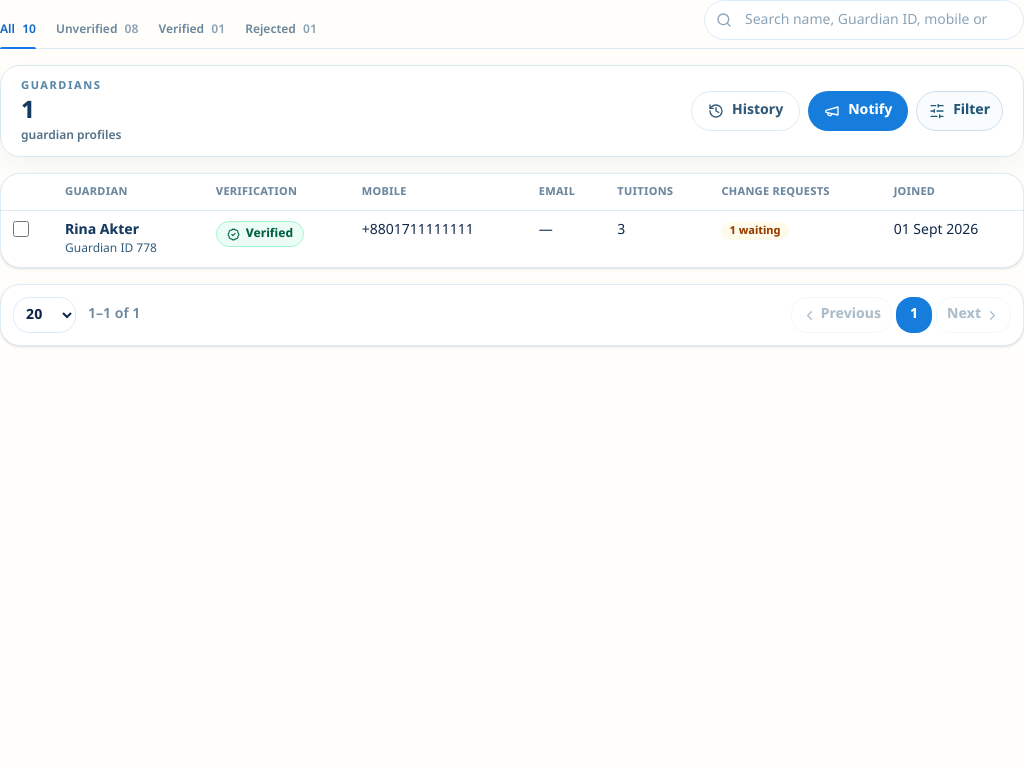
Scenario: Guardian directory Notify › opens a read-only history of past broadcasts
Click the button "History". click: [746, 111]
box: 691,91 -> 800,131
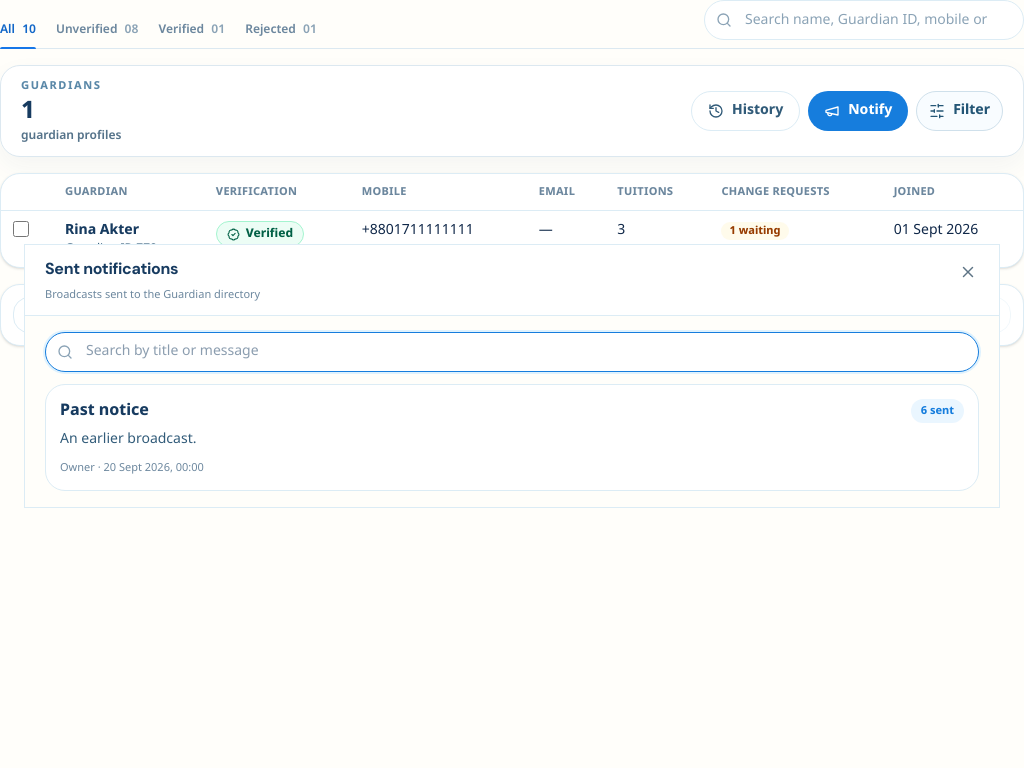
Expected: the text "Past notice" is shown, 60,399 -> 149,424
Expected: the text "6 sent" is shown, 911,399 -> 964,423
